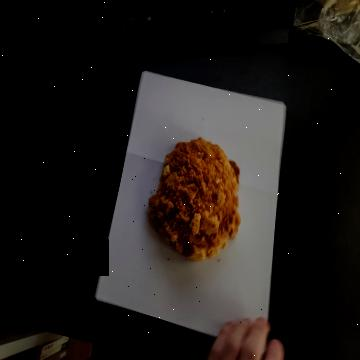soboru_bread: (145, 137, 241, 260)
